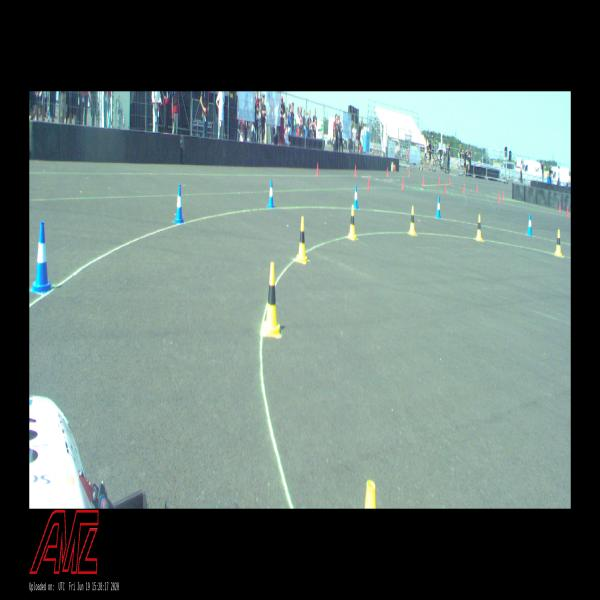blue_cone: (33, 220, 50, 293), (174, 185, 184, 223), (268, 180, 274, 207), (527, 214, 532, 235), (436, 197, 441, 218), (354, 186, 358, 209)
unknown_cone: (367, 176, 370, 189), (316, 163, 319, 176), (497, 191, 500, 204), (401, 178, 404, 189), (444, 183, 447, 194), (501, 190, 504, 201), (566, 205, 568, 216), (422, 176, 424, 187), (559, 202, 561, 212), (386, 167, 388, 177), (462, 183, 464, 193), (476, 184, 478, 193), (408, 168, 410, 177), (355, 165, 356, 176), (438, 176, 439, 185), (395, 164, 396, 172), (449, 176, 450, 184)
yellow_cone: (262, 262, 280, 335), (297, 217, 307, 262), (348, 205, 356, 240), (554, 230, 562, 256), (409, 206, 415, 236), (476, 214, 482, 240)
